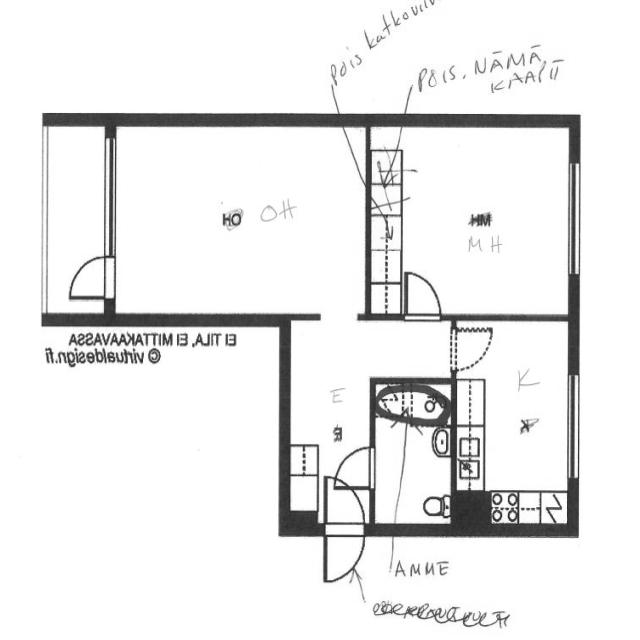door: (319, 493, 369, 588), (63, 252, 119, 300), (329, 442, 378, 495), (402, 268, 448, 321), (449, 320, 494, 372)
window: (562, 154, 589, 284), (98, 132, 121, 260), (563, 367, 584, 485)
zone: (106, 125, 377, 319), (382, 121, 579, 319), (452, 314, 574, 526), (373, 380, 453, 530)
